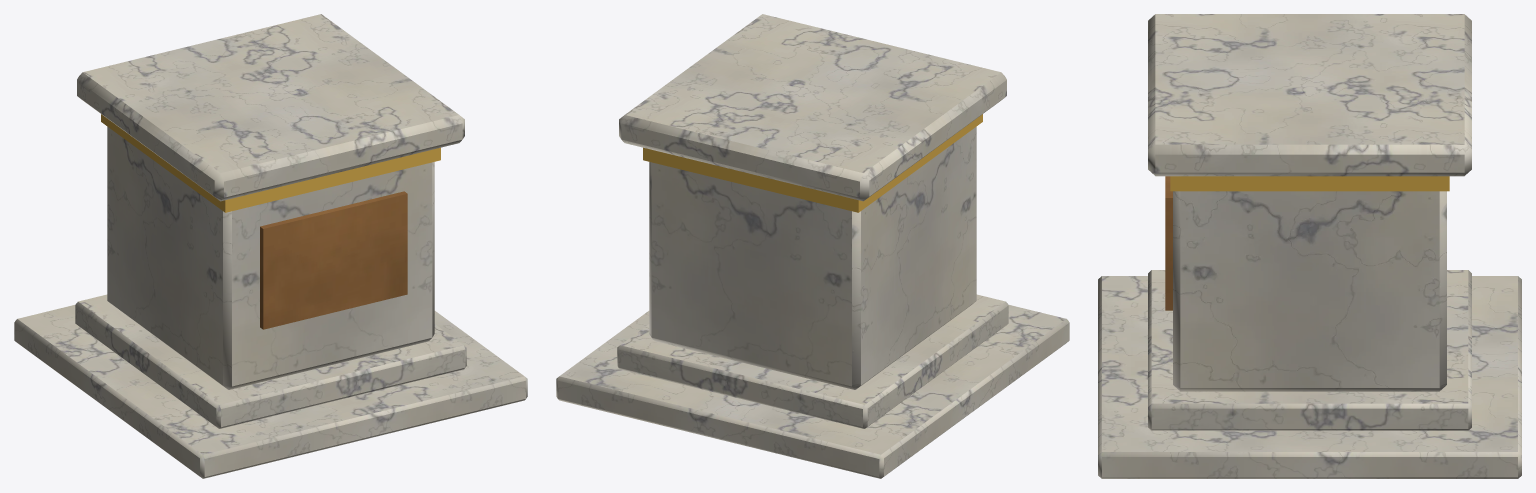
The model's file is decor_statue-plinth_t1.glb.
3 views of the same model, side by side, from view 1: azimuth 30°, elevation 25°; view 2: azimuth 150°, elevation 25°; view 3: azimuth 270°, elevation 25° (orthographic). The views are drawn at different scales.
Visible parts, largest first — view 1: step, marble, bronze, gold; view 2: step, marble, gold; view 3: step, marble, gold, bronze.
Boxes of the visible parts, <box> form: step: <box>14,14,527,478</box>; marble: <box>107,126,434,389</box>; bronze: <box>260,191,407,329</box>; gold: <box>101,114,440,212</box>; step: <box>556,14,1069,478</box>; marble: <box>649,126,976,389</box>; gold: <box>643,114,982,212</box>; step: <box>1098,14,1521,478</box>; marble: <box>1173,191,1446,391</box>; gold: <box>1170,176,1449,191</box>; bronze: <box>1165,176,1172,310</box>.
Size of the model in its own units: 1.7 by 1.38 by 1.7.
4 materials, 3 textured.
